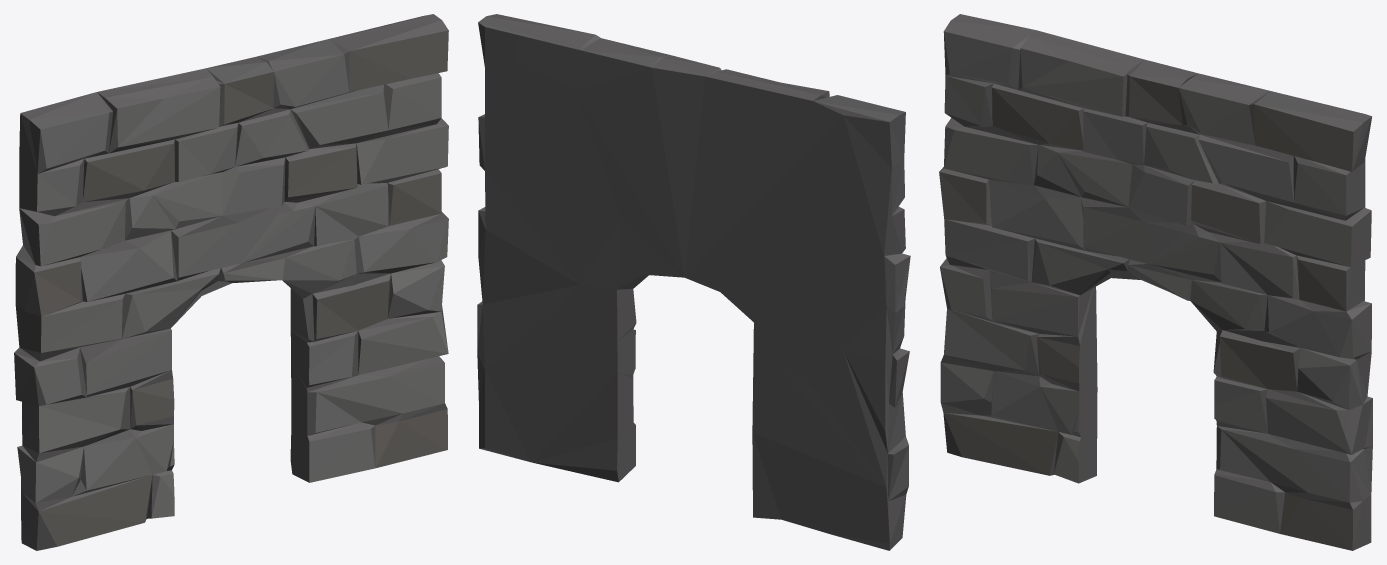
The model's file is SM_Env_Wall_DoorFrame_Round_01.FBX.
3 renders of one model, left to right at view 1: azimuth 30°, elevation 25°; view 2: azimuth 150°, elevation 25°; view 3: azimuth 330°, elevation 25°, orthographic.
Visible parts, largest first — view 1: SM_Env_Wall_DoorFrame_Round_01; view 2: SM_Env_Wall_DoorFrame_Round_01; view 3: SM_Env_Wall_DoorFrame_Round_01.
Part boxes in pixels (box(x1,y1,x2,y2)): SM_Env_Wall_DoorFrame_Round_01: box(14, 14, 448, 550); SM_Env_Wall_DoorFrame_Round_01: box(477, 14, 910, 550); SM_Env_Wall_DoorFrame_Round_01: box(939, 14, 1372, 550).
Size of what is drawn, in the model's own units: 515 by 42.95 by 507.
